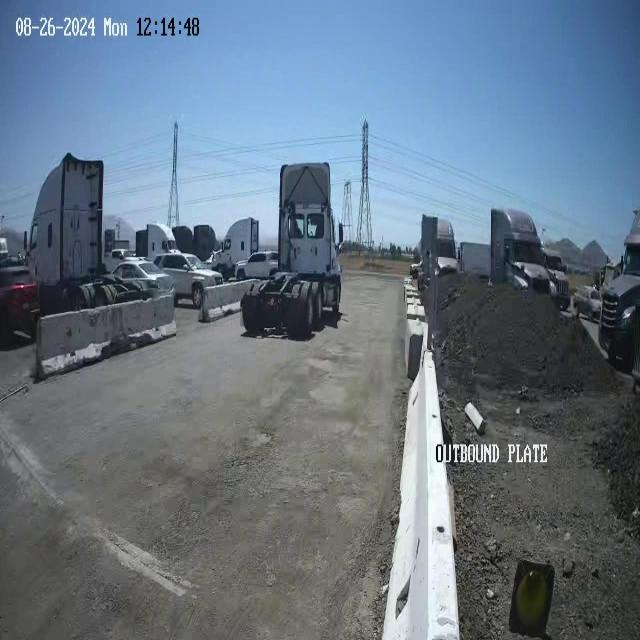BOBTAIL: (240, 160, 342, 338)
